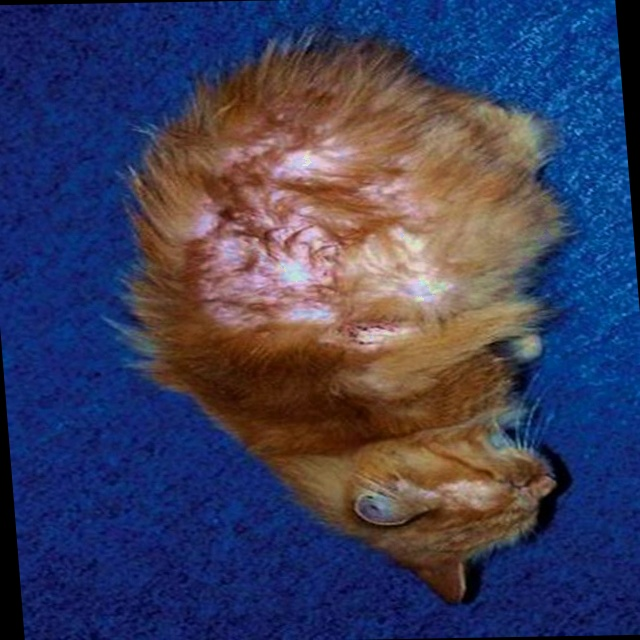hairloss: (188, 147, 438, 318)
